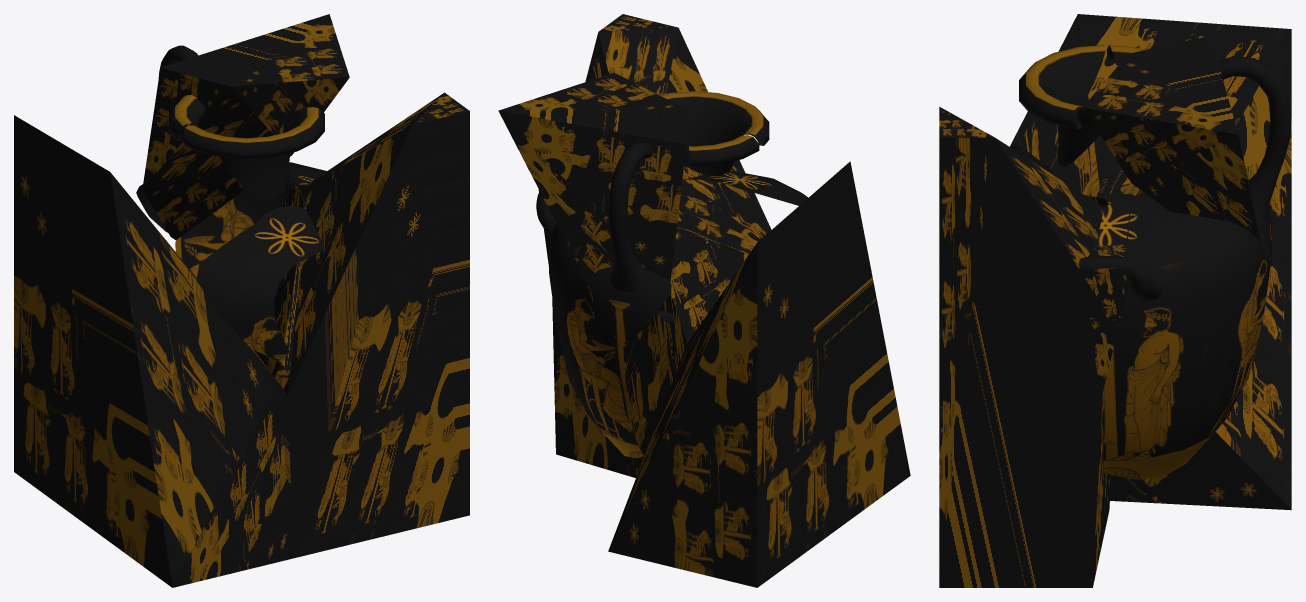
The model's file is hydria-10pieces.fbx.
The picture shows the model from 3 angles, left to right: view 1: azimuth 30°, elevation 25°; view 2: azimuth 150°, elevation 25°; view 3: azimuth 270°, elevation 25°; orthographic projection. The views are drawn at different scales.
Parts seen in each view (by area): view 1: Vase_Hydria_Mesh_cell.002, Vase_Hydria_Mesh_cell, Vase_Hydria_Mesh_cell.001, Vase_Hydria_Mesh_cell.006, Vase_Hydria_Mesh_cell.013, Vase_Hydria_Mesh_cell.007, Vase_Hydria_Mesh_cell.003, Vase_Hydria_Mesh_cell.004; view 2: Vase_Hydria_Mesh_cell.002, Vase_Hydria_Mesh_cell.001, Vase_Hydria_Mesh_cell, Vase_Hydria_Mesh_cell.007, Vase_Hydria_Mesh_cell.003, Vase_Hydria_Mesh_cell.013, Vase_Hydria_Mesh_cell.009, Vase_Hydria_Mesh_cell.016, Vase_Hydria_Mesh_cell.006, Vase_Hydria_Mesh_cell.004; view 3: Vase_Hydria_Mesh_cell, Vase_Hydria_Mesh_cell.002, Vase_Hydria_Mesh_cell.007, Vase_Hydria_Mesh_cell.001, Vase_Hydria_Mesh_cell.013, Vase_Hydria_Mesh_cell.016, Vase_Hydria_Mesh_cell.008, Vase_Hydria_Mesh_cell.012, Vase_Hydria_Mesh_cell.015, Vase_Hydria_Mesh_cell.005, Vase_Hydria_Mesh_cell.009.
Boxes of the visible parts, box(x1,y1,x2,y2) form: Vase_Hydria_Mesh_cell.002: box(14, 115, 293, 587); Vase_Hydria_Mesh_cell: box(283, 92, 469, 558); Vase_Hydria_Mesh_cell.001: box(142, 14, 349, 239); Vase_Hydria_Mesh_cell.006: box(196, 206, 325, 362); Vase_Hydria_Mesh_cell.013: box(183, 107, 324, 199); Vase_Hydria_Mesh_cell.007: box(175, 162, 326, 277); Vase_Hydria_Mesh_cell.003: box(255, 184, 306, 388); Vase_Hydria_Mesh_cell.004: box(169, 95, 205, 141); Vase_Hydria_Mesh_cell.002: box(608, 161, 910, 587); Vase_Hydria_Mesh_cell.001: box(498, 73, 690, 347); Vase_Hydria_Mesh_cell: box(552, 14, 771, 477); Vase_Hydria_Mesh_cell.007: box(549, 224, 643, 458); Vase_Hydria_Mesh_cell.003: box(670, 180, 760, 343); Vase_Hydria_Mesh_cell.013: box(660, 91, 769, 175); Vase_Hydria_Mesh_cell.009: box(588, 267, 671, 342); Vase_Hydria_Mesh_cell.016: box(608, 142, 653, 292); Vase_Hydria_Mesh_cell.006: box(685, 171, 808, 205); Vase_Hydria_Mesh_cell.004: box(689, 135, 759, 166); Vase_Hydria_Mesh_cell: box(939, 106, 1110, 587); Vase_Hydria_Mesh_cell.002: box(1009, 14, 1291, 510); Vase_Hydria_Mesh_cell.007: box(1103, 207, 1270, 479); Vase_Hydria_Mesh_cell.001: box(1082, 36, 1260, 241); Vase_Hydria_Mesh_cell.013: box(1019, 45, 1105, 166); Vase_Hydria_Mesh_cell.016: box(1217, 56, 1291, 219); Vase_Hydria_Mesh_cell.008: box(1079, 242, 1132, 396); Vase_Hydria_Mesh_cell.012: box(1096, 201, 1130, 245); Vase_Hydria_Mesh_cell.015: box(1129, 260, 1162, 301); Vase_Hydria_Mesh_cell.005: box(1079, 256, 1133, 268); Vase_Hydria_Mesh_cell.009: box(1248, 179, 1271, 262).
Size of the model in its own units: 12128 by 15760 by 11185.
